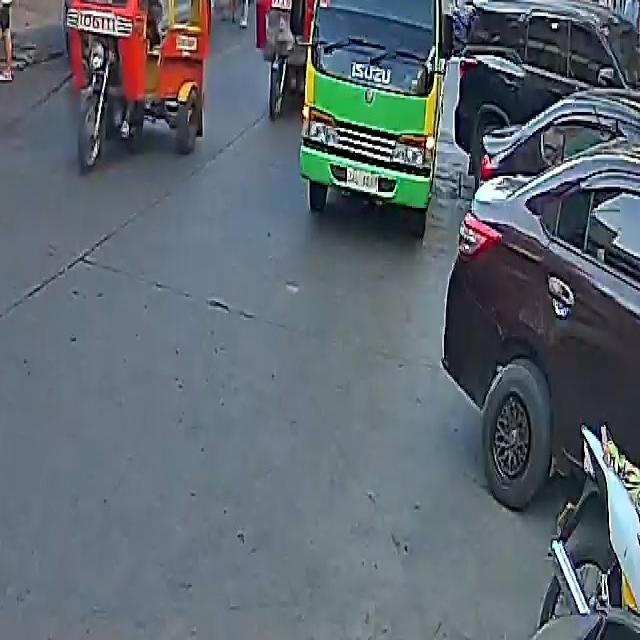car: (444, 64, 640, 530), (453, 0, 640, 185)
